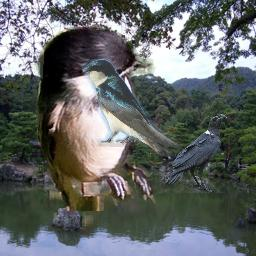Crow: (159, 113, 228, 193)
Swallow: (33, 21, 160, 211), (82, 59, 183, 157)
